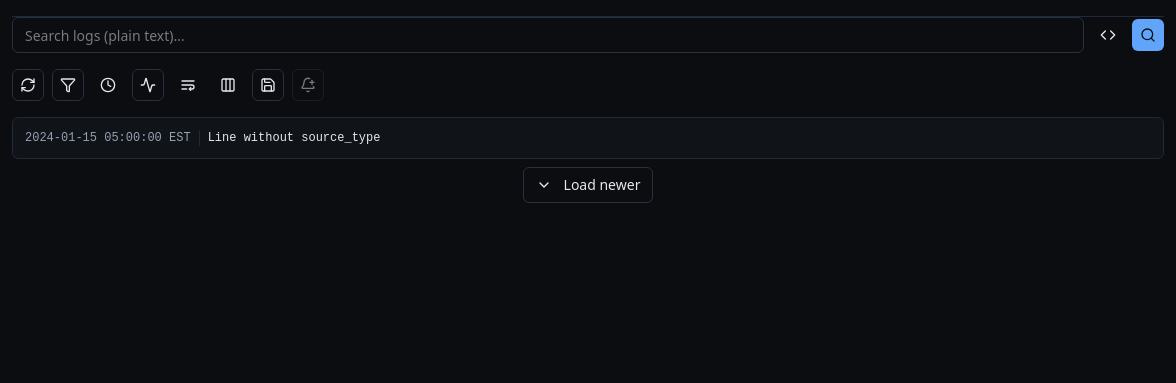
Test: LogsExplorerBody (surrounding mode) › falls back to all-services (no source_type) when anchor line has no source_type
The image size is (1176, 383).
Click the button with test id "log-row": [112, 138] box top-left (25, 130), bottom-right (380, 146)
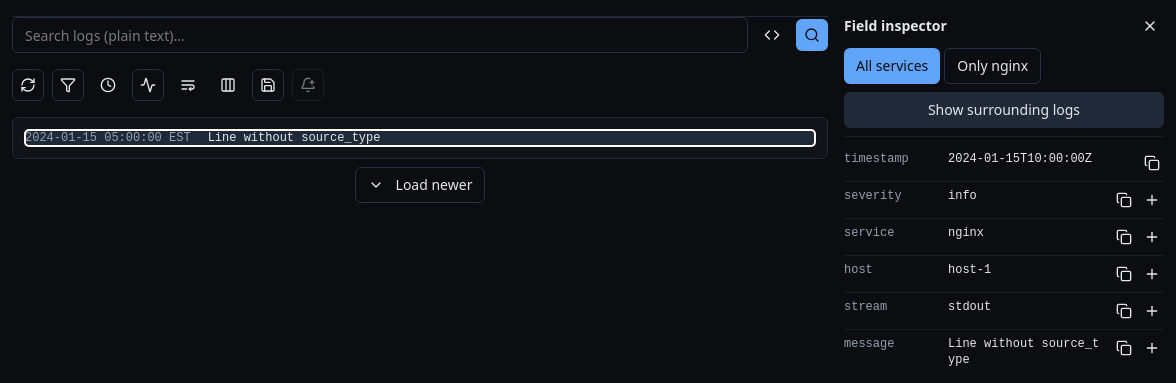
Now the button with test id "show-surrounding-logs" is shown
Click the button with test id "show-surrounding-logs": [1004, 110] box top-left (844, 92), bottom-right (1164, 128)
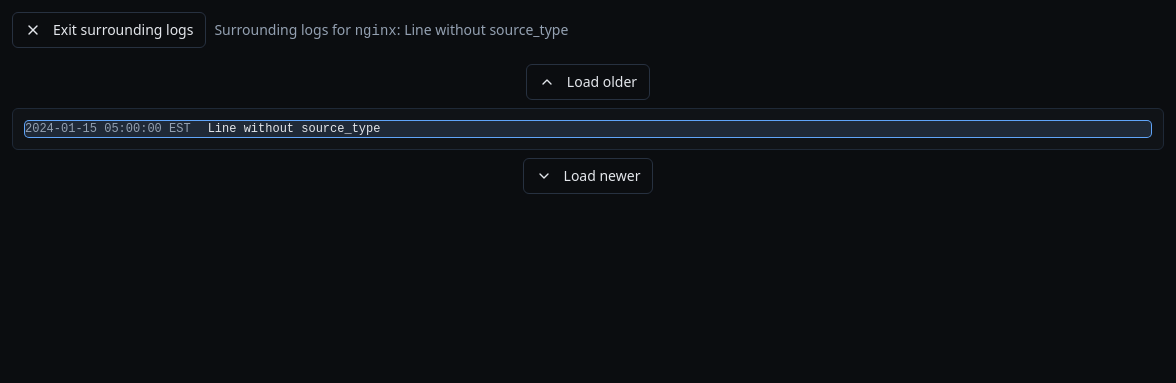
Now the element with test id "surrounding-mode-bar" is shown, box top-left (12, 12), bottom-right (568, 48)
